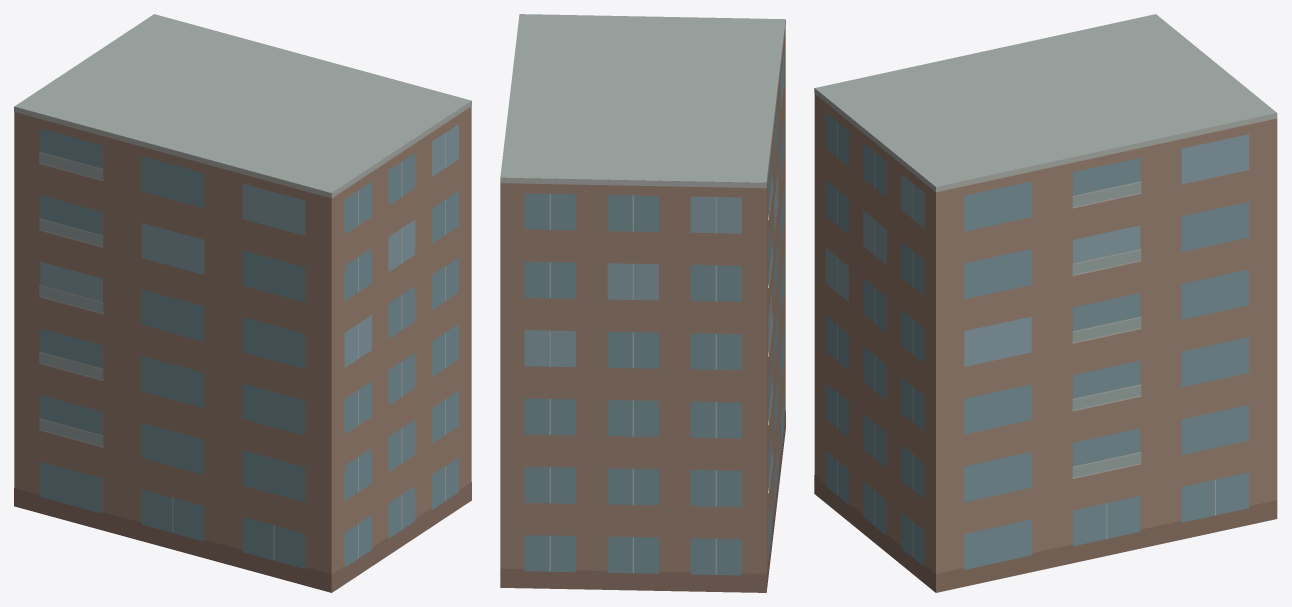
Rendered from survey-upis-32612625.glb.
3 views of the same model, side by side, from view 1: azimuth 30°, elevation 25°; view 2: azimuth 150°, elevation 25°; view 3: azimuth 270°, elevation 25° (orthographic). The views are drawn at different scales.
Visible parts, largest first — view 1: survey-upis-32612625.tmp; view 2: survey-upis-32612625.tmp; view 3: survey-upis-32612625.tmp.
Boxes of the visible parts, x1,y1,x2,y2 form: survey-upis-32612625.tmp: (14, 14, 471, 592); survey-upis-32612625.tmp: (500, 14, 785, 592); survey-upis-32612625.tmp: (814, 14, 1277, 592).
Size of the model in its own units: 16.74 by 18.3 by 18.92.
